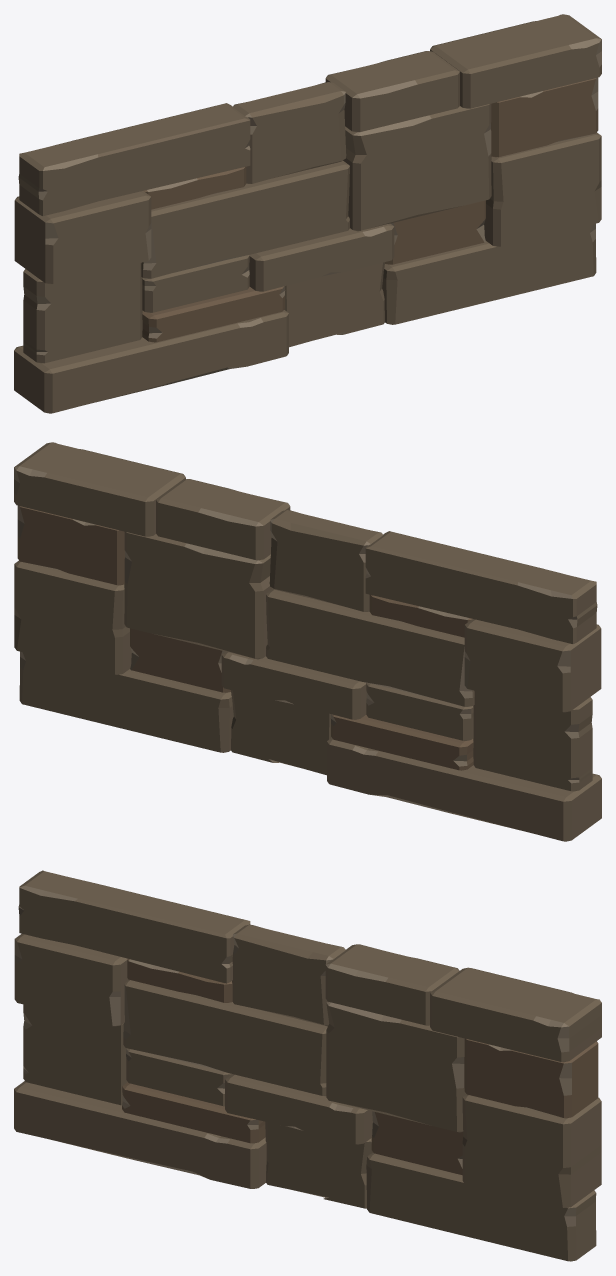
The model's file is prp_arena_wall.glb.
3 views of the same model, one above another, from view 1: azimuth 30°, elevation 25°; view 2: azimuth 150°, elevation 25°; view 3: azimuth 330°, elevation 25° (orthographic).
Visible parts, largest first — view 1: Mesh; view 2: Mesh; view 3: Mesh.
Boxes of the visible parts, left/top/right/bottom form: Mesh: left=14, top=14, right=601, bottom=413; Mesh: left=14, top=442, right=601, bottom=841; Mesh: left=14, top=870, right=601, bottom=1261.
Bounding box in the file's own units: 8.4 × 3.5 × 1.
